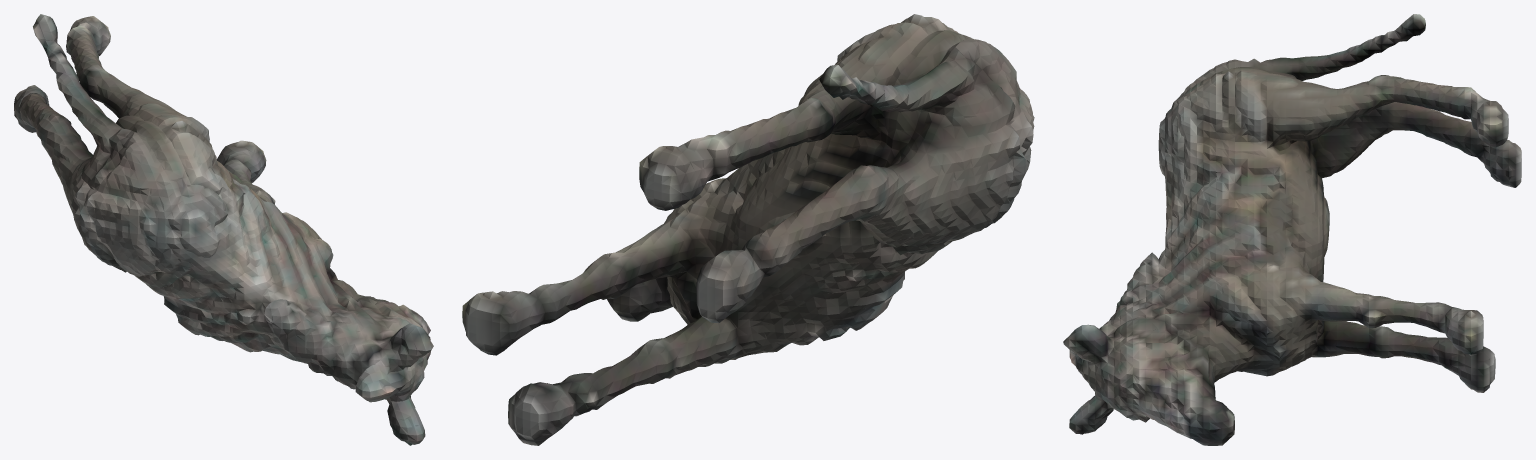
The picture shows the model from 3 angles, left to right: view 1: azimuth 30°, elevation 25°; view 2: azimuth 150°, elevation 25°; view 3: azimuth 270°, elevation 25°; orthographic projection. The views are drawn at different scales.
Visible parts, largest first — view 1: world; view 2: world; view 3: world.
Part boxes in pixels (box(x1,y1,x2,y2)): world: box(14, 14, 433, 445); world: box(462, 14, 1034, 445); world: box(1063, 14, 1521, 445).
Bounding box in the file's own units: 0.7724 × 0.7862 × 0.9854.
